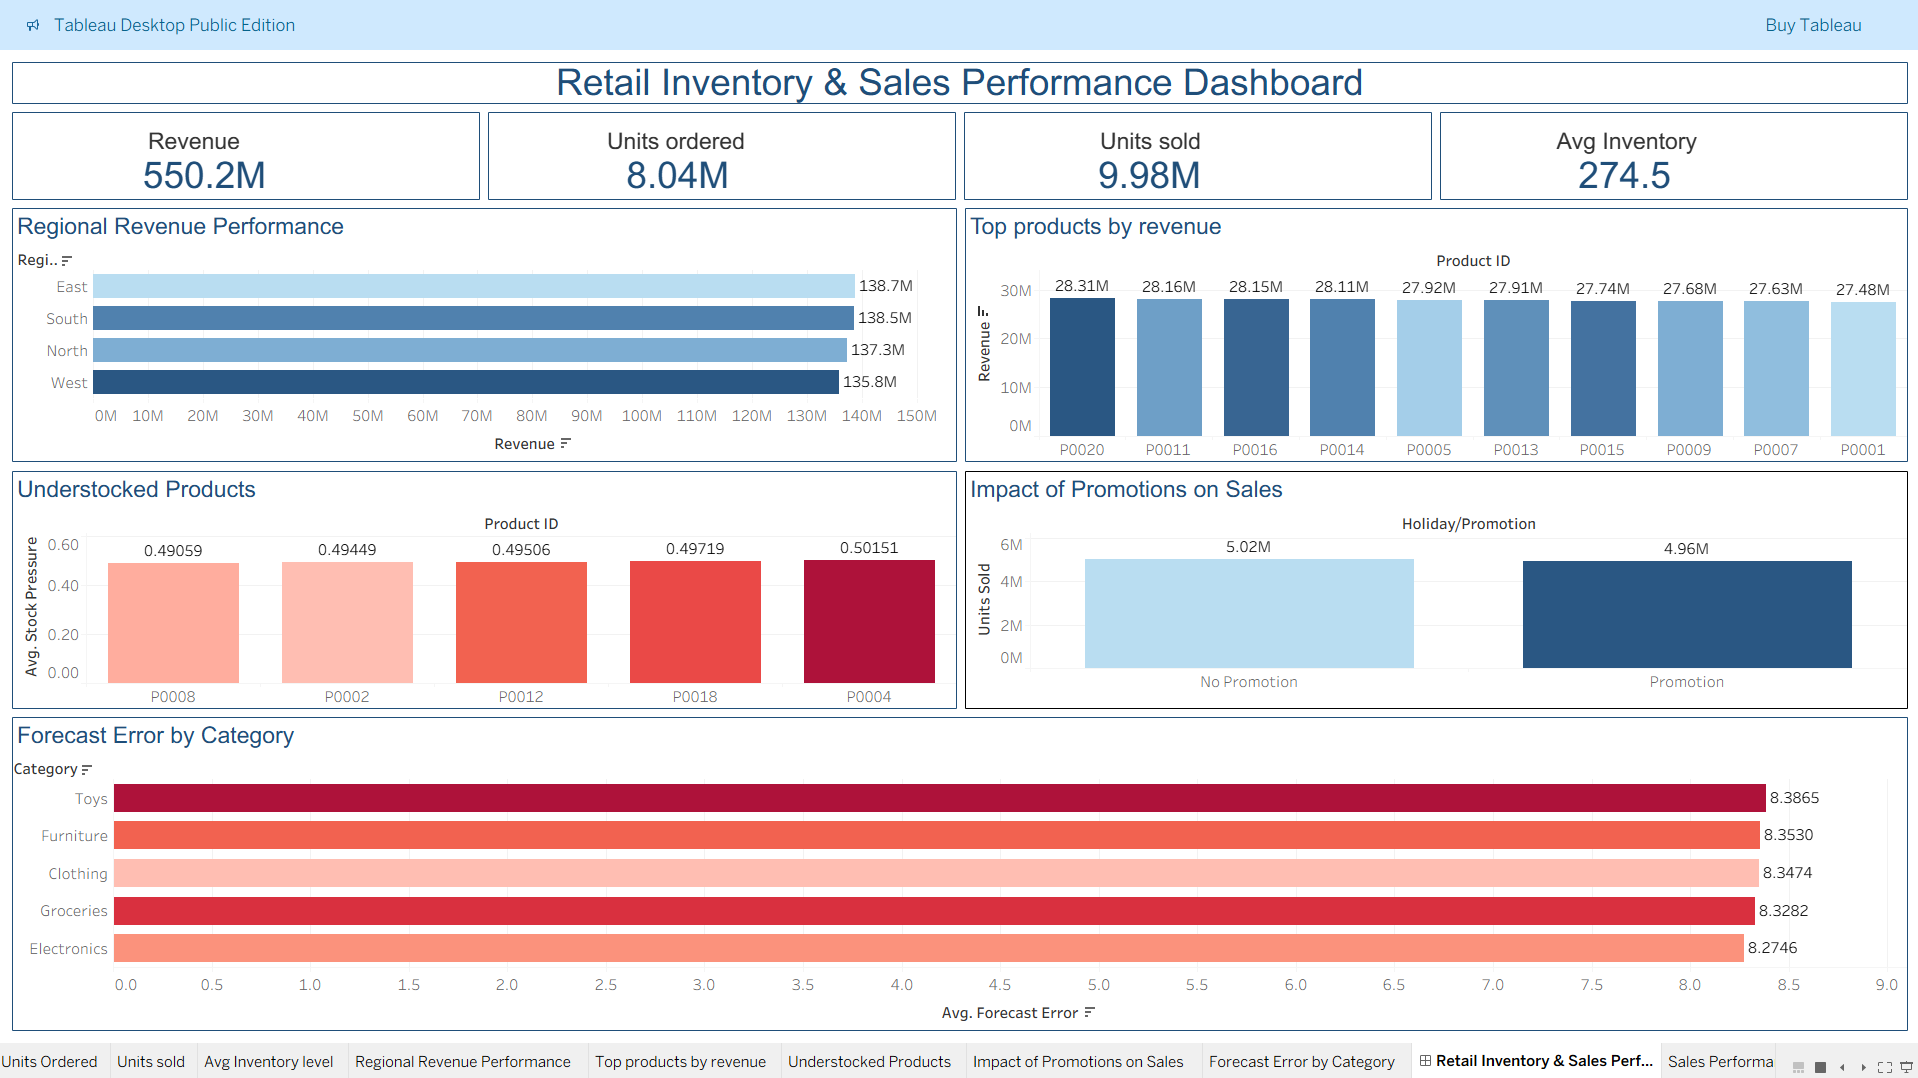

The dashboard page shown, as its layout file describes it:
{"tool":"tableau","page":{"name":"Retail Inventory & Sales Performance Dashboard","canvas":[1000,1000],"units":"permille","ordinal":0},"visuals":[{"type":"title","box":[5,10,989.9,62.4]},{"type":"worksheet","title":"Total Revenue","mark":"Automatic","box":[5,72.4,247.8,119.9]},{"type":"worksheet","title":"Units Ordered","mark":"Automatic","box":[252.8,72.4,247.8,119.9]},{"type":"worksheet","title":"Units sold","mark":"Automatic","box":[500.6,72.4,247.2,119.9]},{"type":"worksheet","title":"Avg Inventory level","mark":"Automatic","box":[747.8,72.4,247.2,119.9]},{"type":"worksheet","title":"Regional Revenue Performance","mark":"Automatic","rows":["Region"],"cols":["Revenue"],"box":[5,192.3,495.6,227.5]},{"type":"worksheet","title":"Top products by revenue","mark":"Automatic","rows":["Revenue"],"cols":["Product ID"],"box":[500.6,192.3,494.4,227.5]},{"type":"worksheet","title":"Understocked Products","mark":"Bar","rows":["Calculation_0699029400727552"],"cols":["Product ID"],"box":[5,419.8,495.6,246.8]},{"type":"worksheet","title":"Impact of Promotions on Sales","mark":"Automatic","rows":["Units Sold"],"cols":["Holiday/Promotion"],"box":[500.6,419.8,494.4,246.8]},{"type":"worksheet","title":"Forecast Error by Category","mark":"Automatic","rows":["Category"],"cols":["Calculation_1700959680831488"],"box":[5,666.6,989.9,323.4]}]}

Visuals, with their boxes on the dashboard's canvas, which has no fixed pixel size, in thousandths of its width and height (x1, y1, x2, y2). These are canvas units, not pixel positions in the 1918x1078 screenshot, which may show the page scaled, cropped or inside an application window:
title: [5, 10, 995, 72]
"Total Revenue" worksheet: [5, 72, 253, 192]
"Units Ordered" worksheet: [253, 72, 501, 192]
"Units sold" worksheet: [501, 72, 748, 192]
"Avg Inventory level" worksheet: [748, 72, 995, 192]
"Regional Revenue Performance" worksheet: [5, 192, 501, 420]
"Top products by revenue" worksheet: [501, 192, 995, 420]
"Understocked Products" worksheet (Bar marks): [5, 420, 501, 667]
"Impact of Promotions on Sales" worksheet: [501, 420, 995, 667]
"Forecast Error by Category" worksheet: [5, 667, 995, 990]
